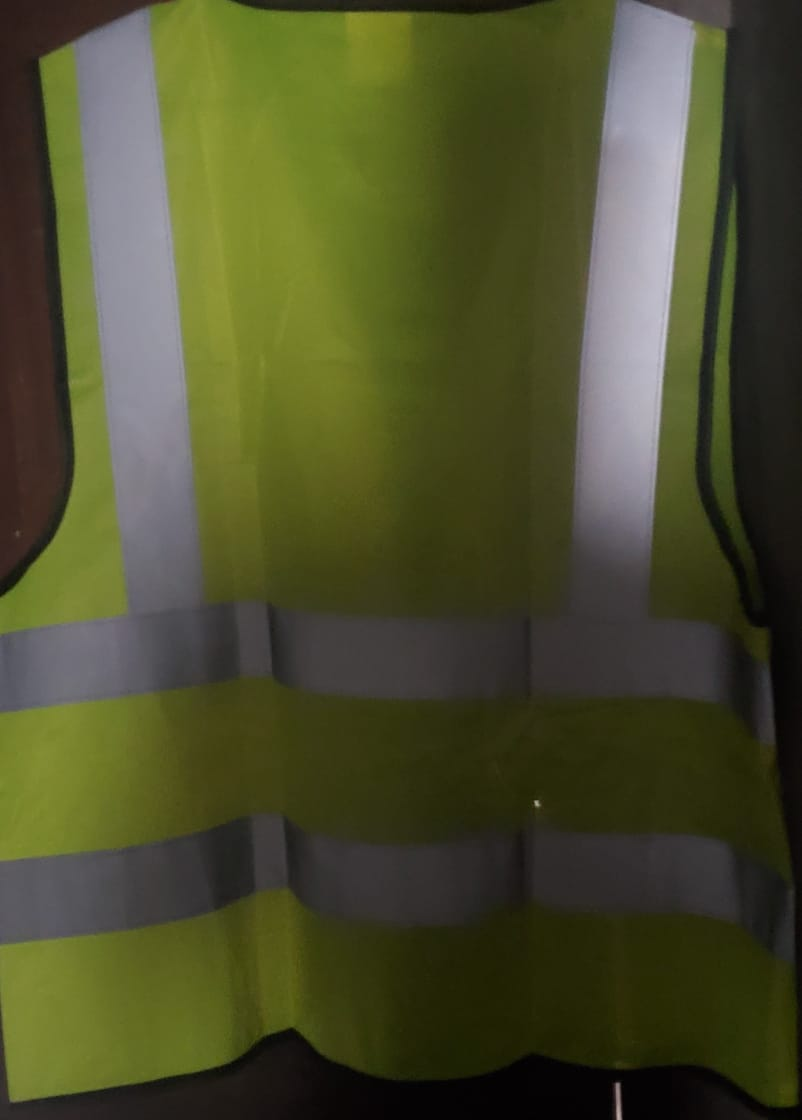vest: (2, 18, 802, 1112)
